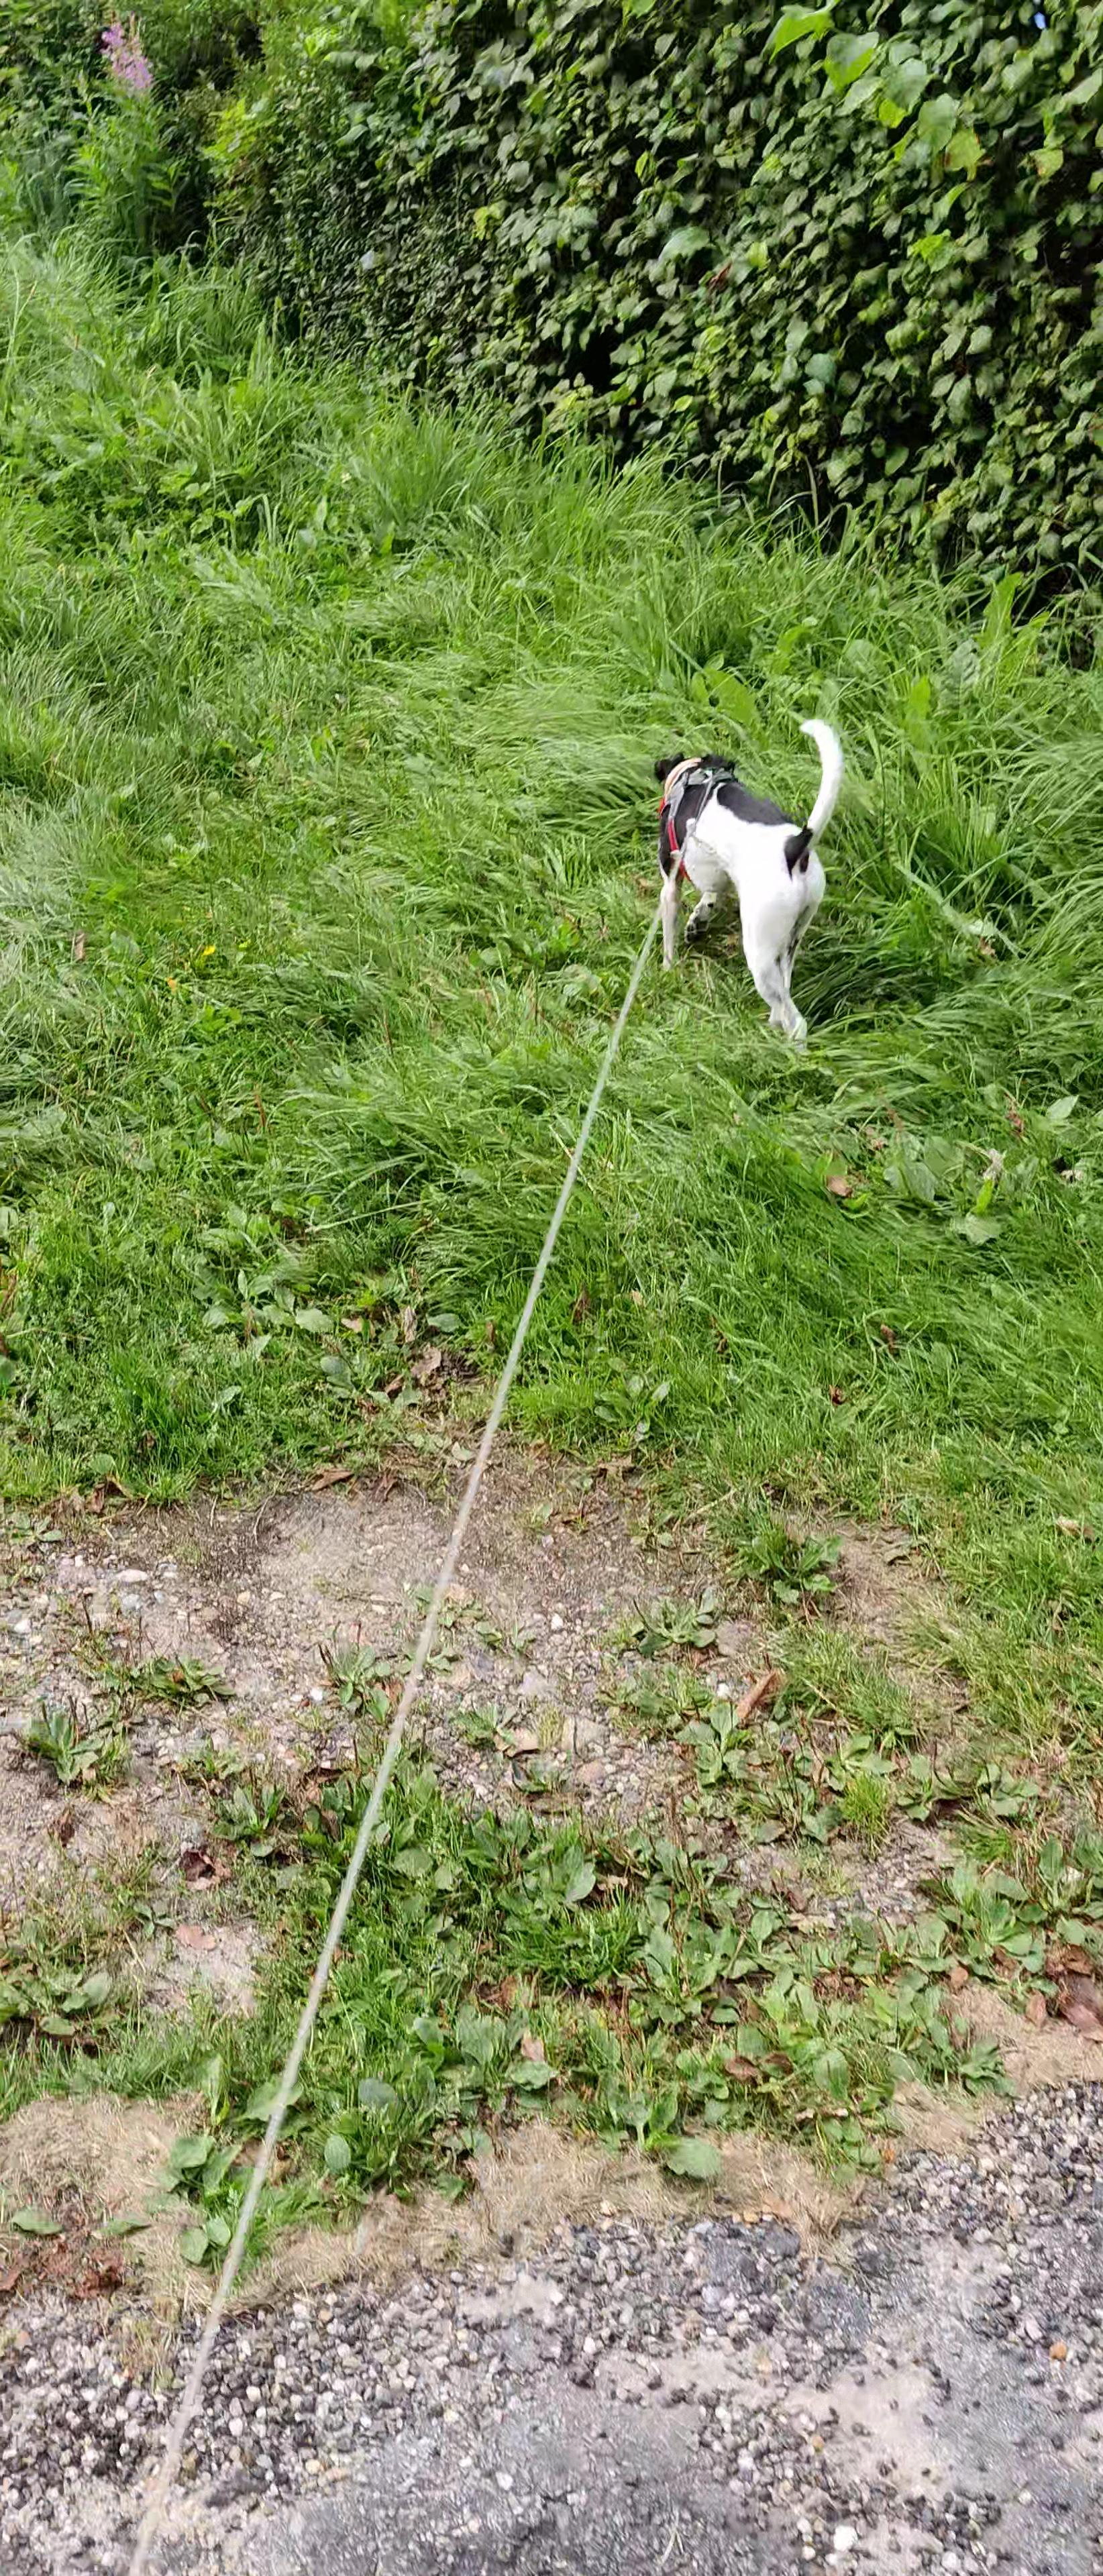Dog: (630, 697, 863, 1068)
